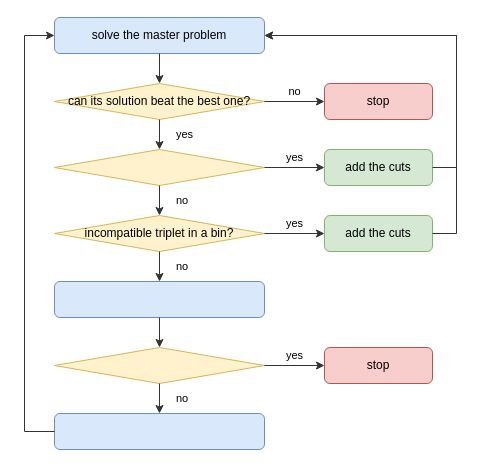
Image size: 482x467. Some labels were removed from this diagram. Here are the shapes that lost their labels. From the top down, the centre of each, then its label:
(159,167): dual feasible function cut violated by a bin?
(159,299): solve the feasibility subproblem of each bin
(159,365): does every bin fit?
(159,431): add the no-good cuts of the infeasible bins
